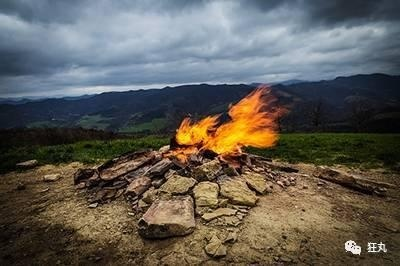fire: (169, 84, 288, 159)
